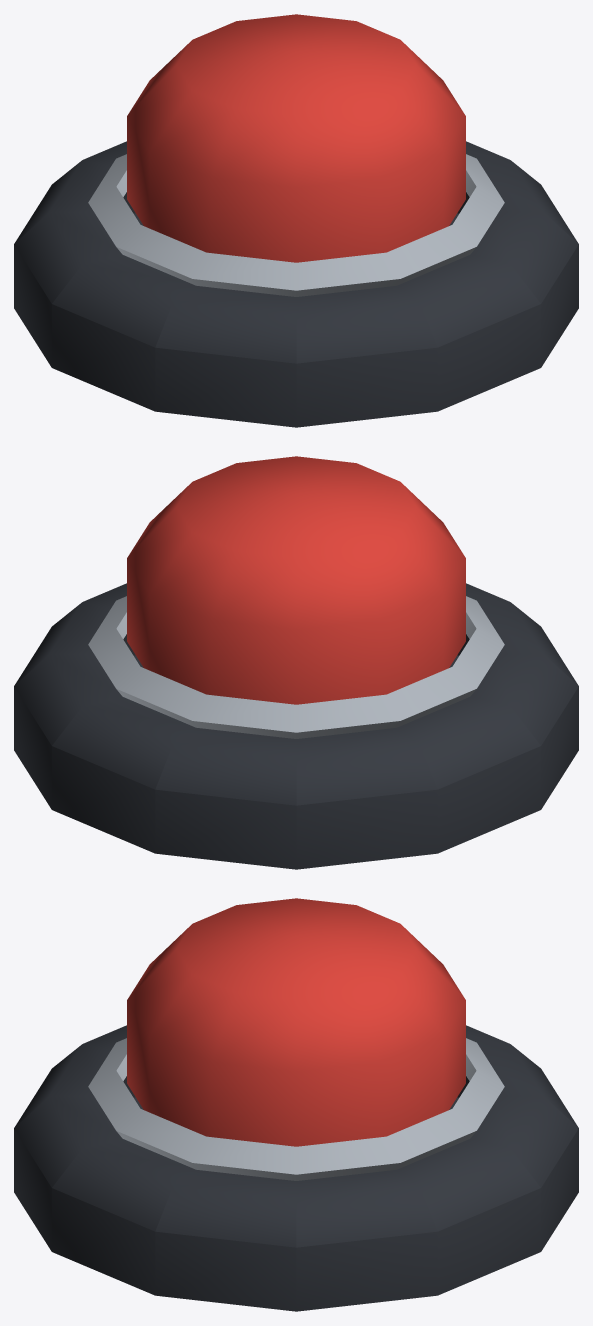
The model's file is Boton.fbx.
The picture shows the model from 3 angles, top to bottom: view 1: azimuth 30°, elevation 25°; view 2: azimuth 150°, elevation 25°; view 3: azimuth 270°, elevation 25°; orthographic projection.
Parts seen in each view (by area): view 1: Boton; view 2: Boton; view 3: Boton.
Boxes of the visible parts, x1,y1,x2,y2 form: Boton: (14,14,578,427); Boton: (14,456,578,869); Boton: (14,898,578,1311).
Bounding box in the file's own units: 0.8 × 0.4 × 0.8.
Materials: 1 (1 with a texture image).
